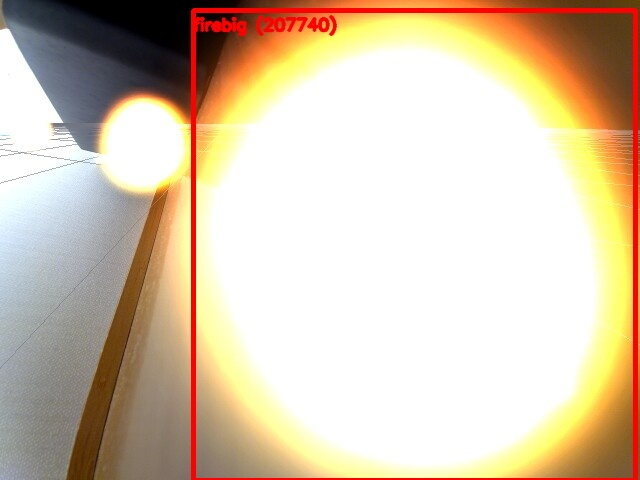firebig: (193, 10, 635, 480)
